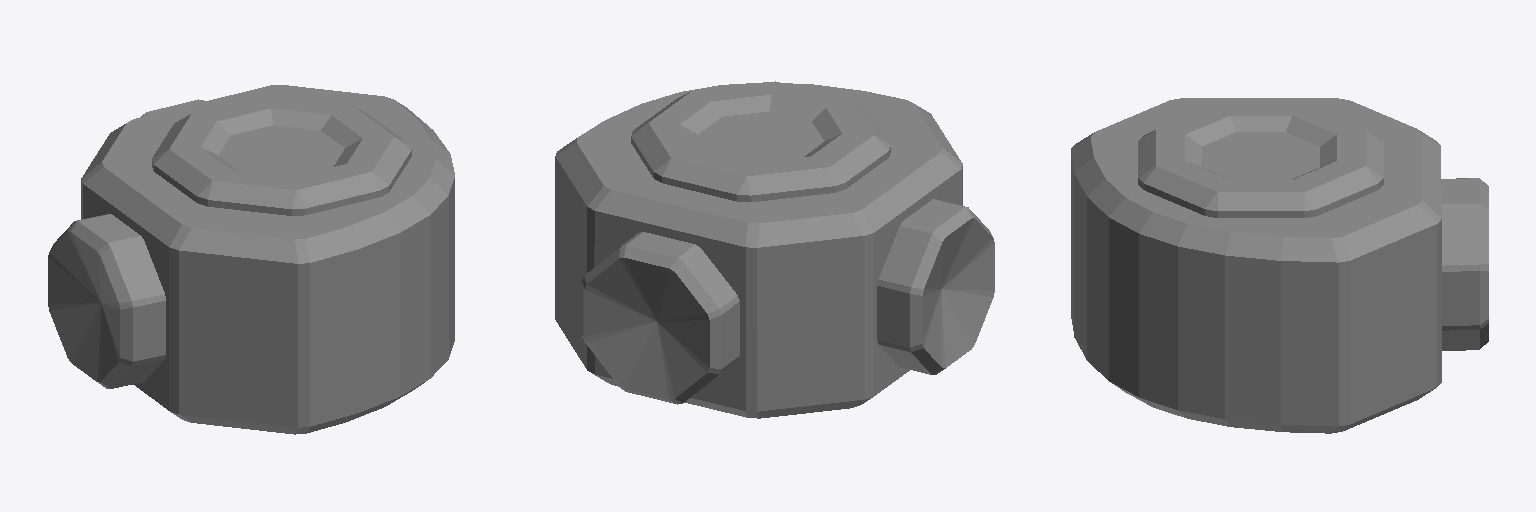
The model's file is mis_obj_OpenBlock_joint.obj.
3 renders of one model, left to right at view 1: azimuth 30°, elevation 25°; view 2: azimuth 150°, elevation 25°; view 3: azimuth 270°, elevation 25°, orthographic.
Parts seen in each view (by area): view 1: mis_obj_OpenBlock_joint; view 2: mis_obj_OpenBlock_joint; view 3: mis_obj_OpenBlock_joint.
Part boxes in pixels (bbox=[...]): mis_obj_OpenBlock_joint: bbox=[48, 85, 454, 434]; mis_obj_OpenBlock_joint: bbox=[555, 81, 994, 418]; mis_obj_OpenBlock_joint: bbox=[1071, 98, 1488, 433].
Size of the model in its own units: 21.77 by 13.32 by 21.77.